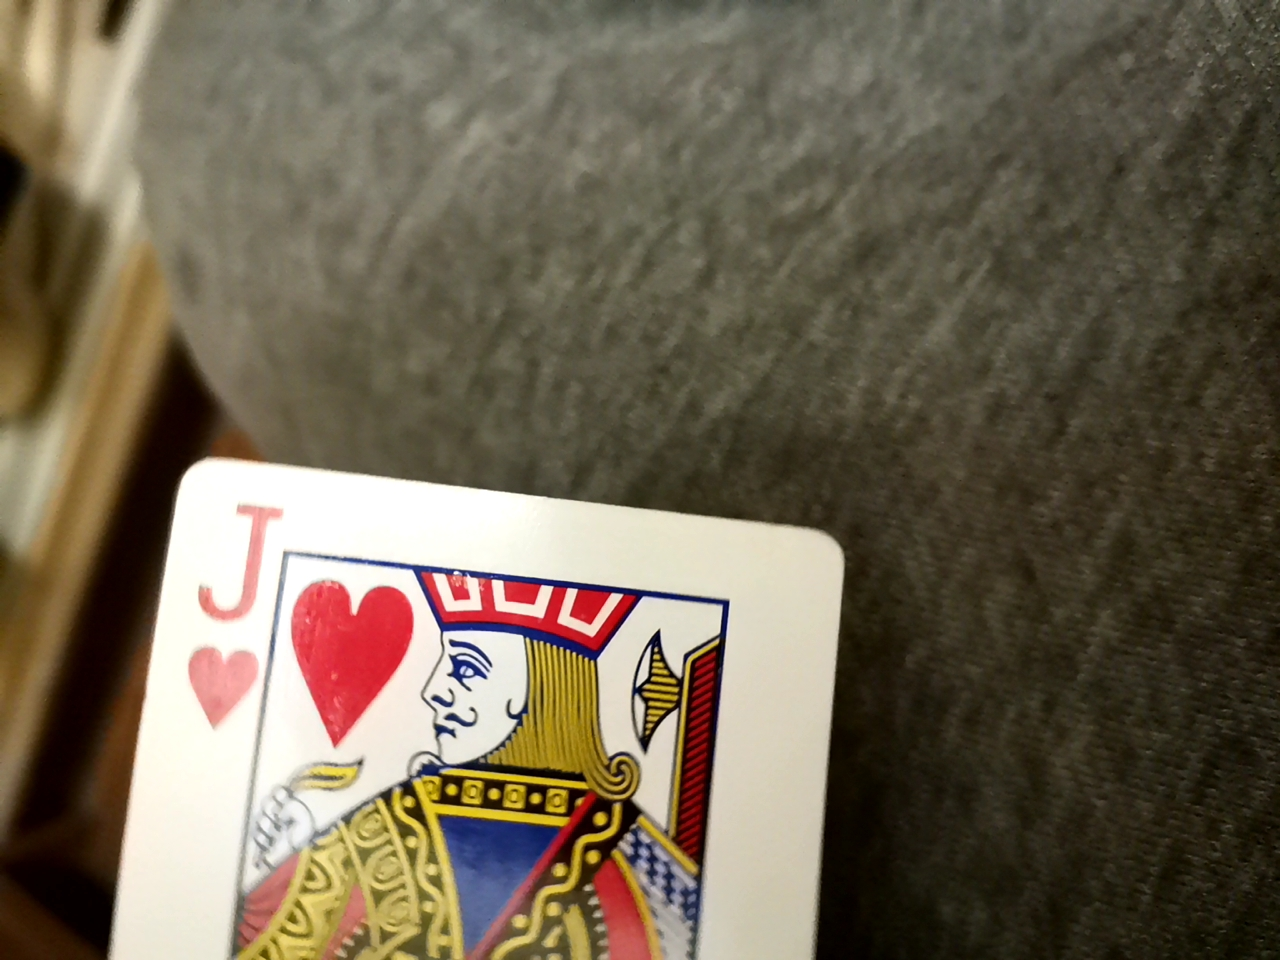hx j: (72, 459, 848, 959)
